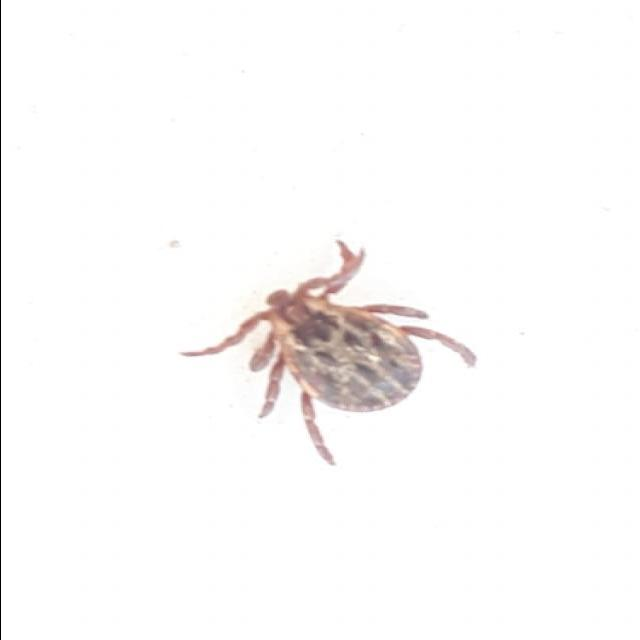Dermacentor Reticulatus-M: (182, 242, 474, 465)
